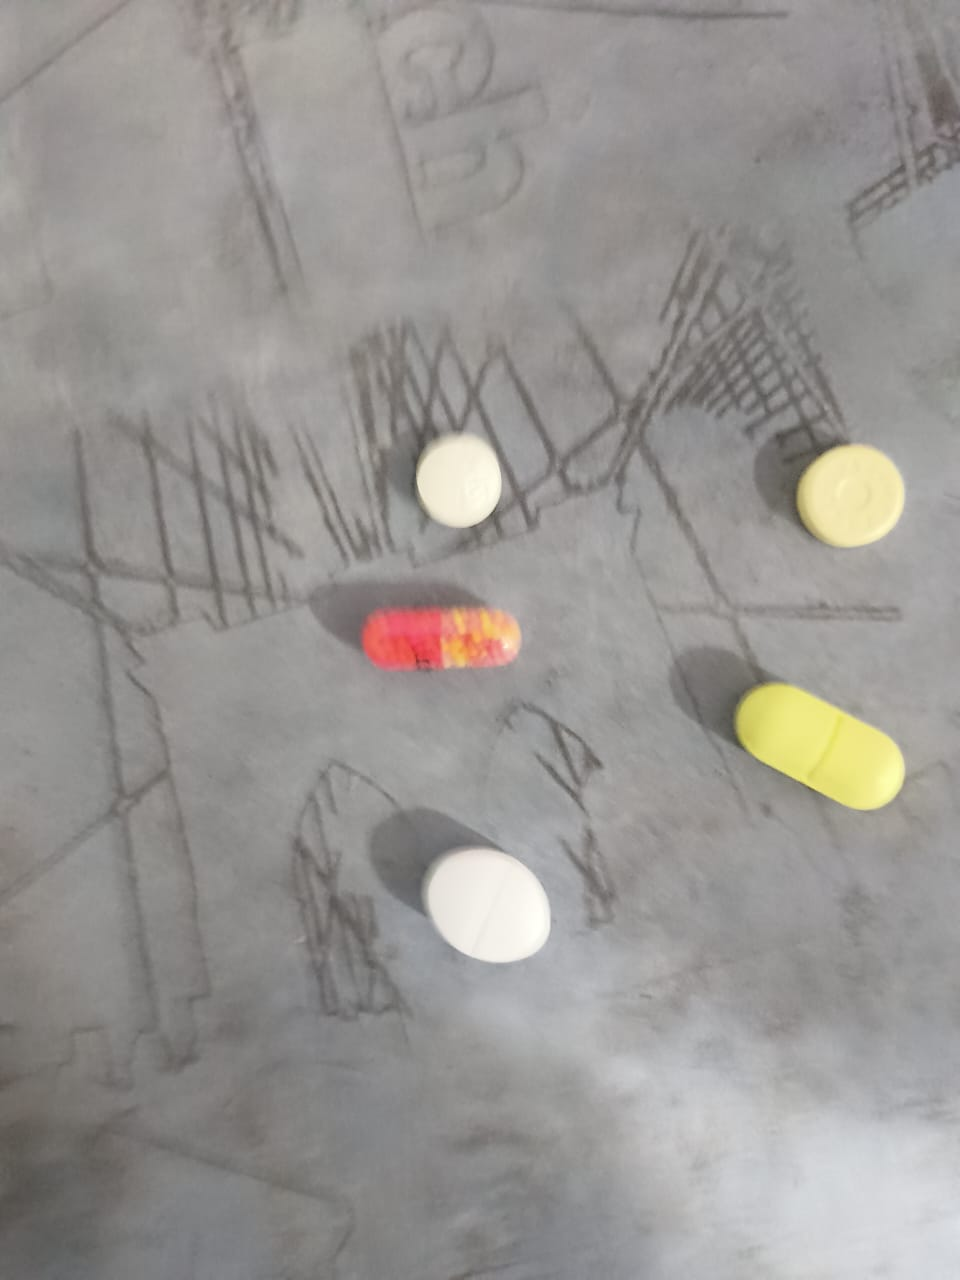Coldact: (357, 565, 534, 700)
Dolo 650: (422, 801, 565, 978)
Meftal SPAS: (775, 444, 908, 575)
Nise: (374, 427, 527, 534)
Norflox TZ: (742, 663, 912, 845)
